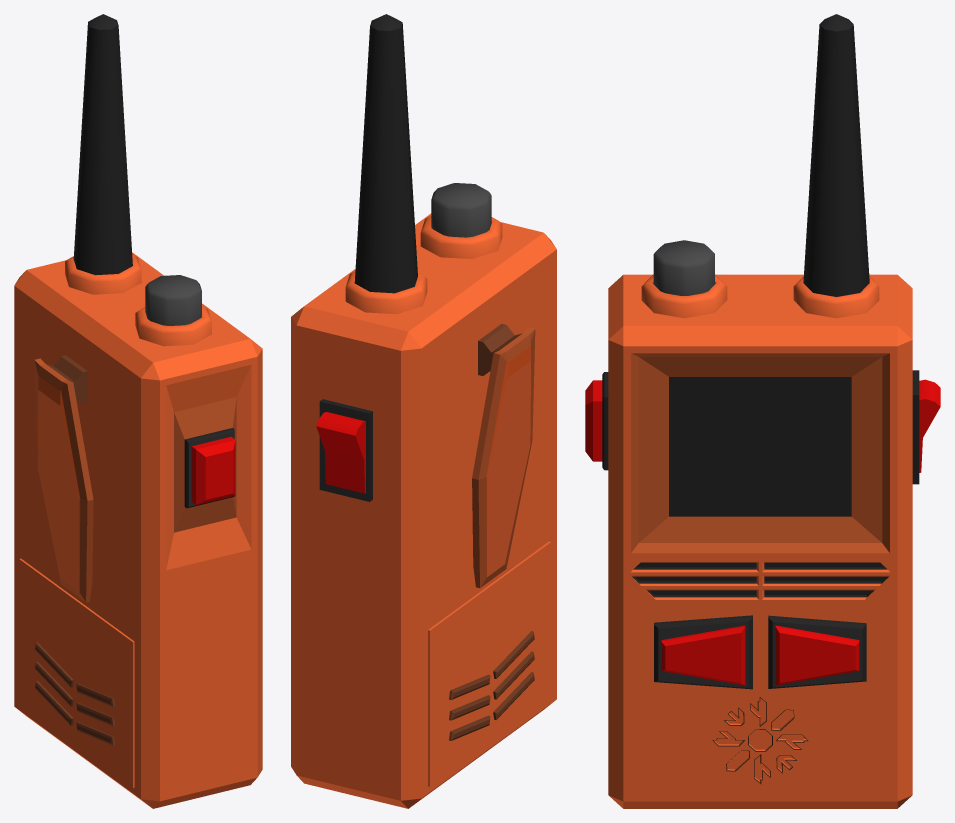
The model's file is RadioScaledProperly.fbx.
The picture shows the model from 3 angles, left to right: view 1: azimuth 30°, elevation 25°; view 2: azimuth 150°, elevation 25°; view 3: azimuth 270°, elevation 25°; orthographic projection. The views are drawn at different scales.
Parts seen in each view (by area): view 1: Cube, Cube.005, Cube.001, Cube.004, Cube.002, Cube.003; view 2: Cube, Cube.005, Cube.001, Cube.004, Cube.002, Switch, SwitchOnOff; view 3: Cube, Cube.001, Cube.007, Cube.002, Cube.003, Switch, SwitchOnOff.
Boxes of the visible parts, bbox=[...] form: Cube: bbox=[14, 252, 262, 808]; Cube.005: bbox=[19, 558, 134, 787]; Cube.001: bbox=[73, 14, 132, 275]; Cube.004: bbox=[34, 355, 93, 602]; Cube.002: bbox=[65, 254, 211, 346]; Cube.003: bbox=[184, 428, 235, 508]; Cube: bbox=[291, 213, 556, 808]; Cube.005: bbox=[428, 541, 551, 786]; Cube.001: bbox=[354, 14, 417, 293]; Cube.004: bbox=[472, 323, 535, 587]; Cube.002: bbox=[345, 183, 502, 314]; Switch: bbox=[316, 412, 365, 493]; SwitchOnOff: bbox=[319, 399, 372, 501]; Cube: bbox=[608, 274, 912, 808]; Cube.001: bbox=[803, 14, 869, 296]; Cube.007: bbox=[654, 615, 866, 689]; Cube.002: bbox=[641, 240, 879, 318]; Cube.003: bbox=[585, 372, 608, 470]; Switch: bbox=[919, 379, 940, 472]; SwitchOnOff: bbox=[912, 370, 919, 484].
Size of the model in its own units: 13.32 by 55.75 by 23.33.
